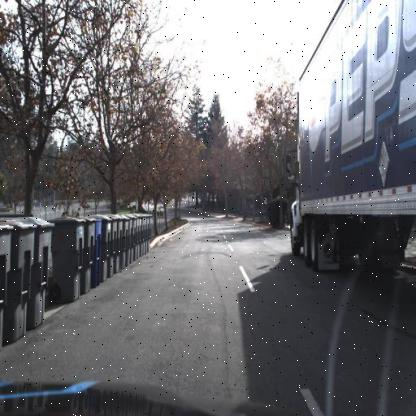truck: (268, 2, 416, 346)
